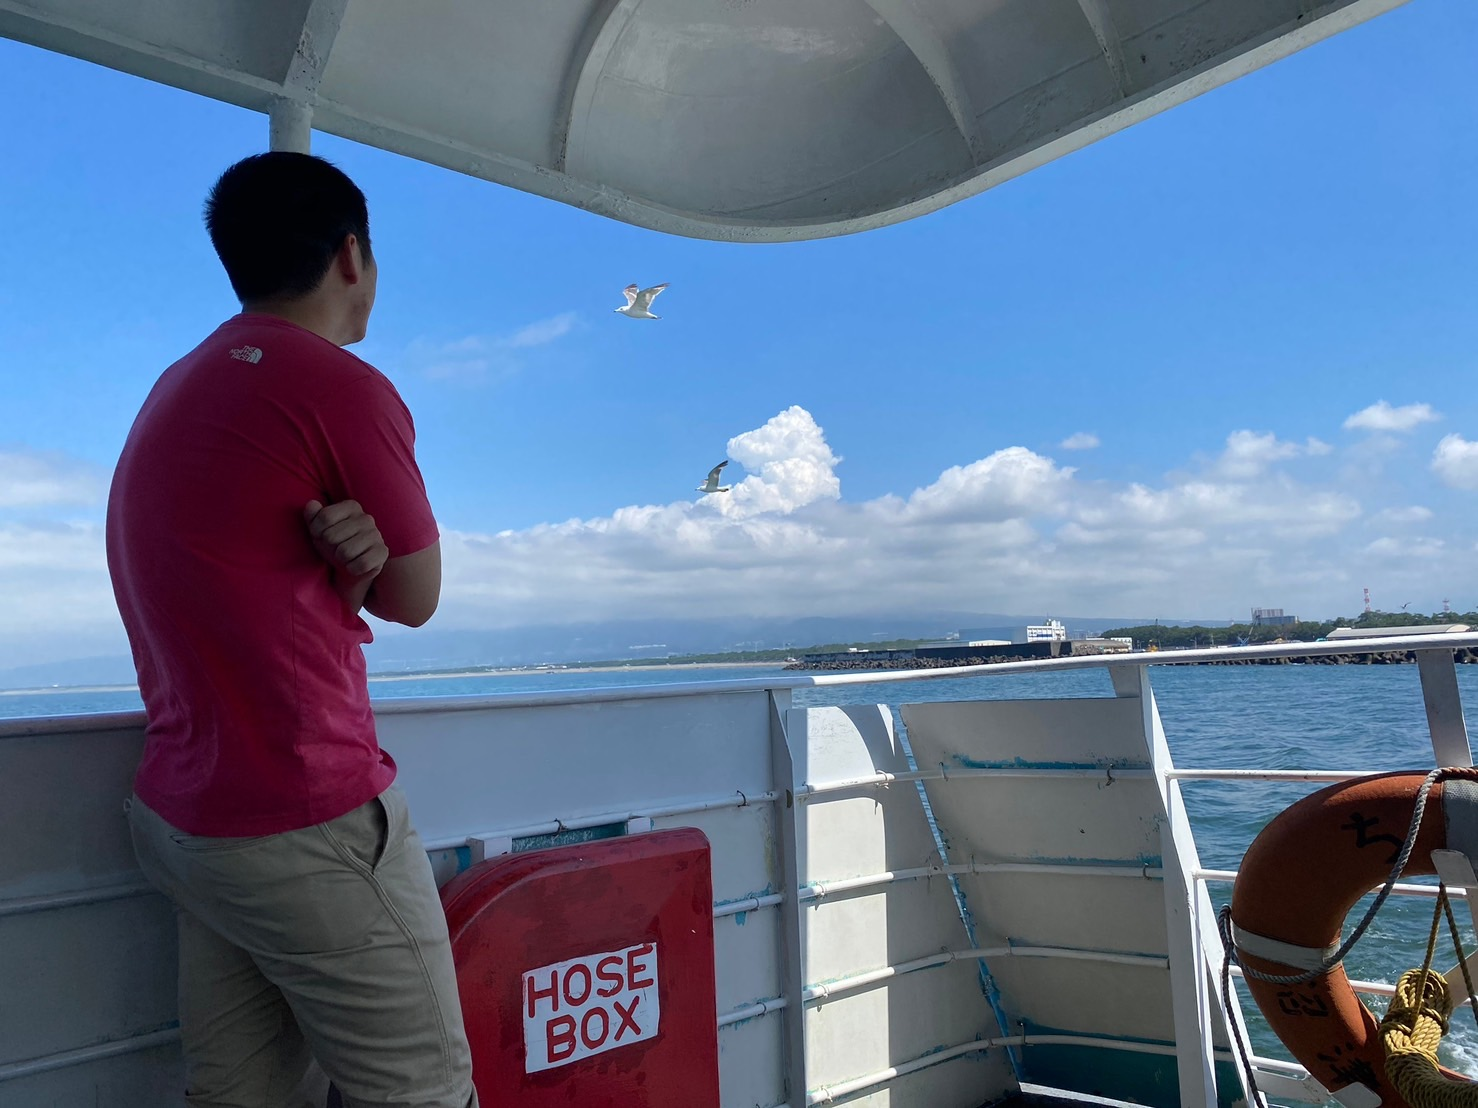male: (100, 148, 478, 1108)
